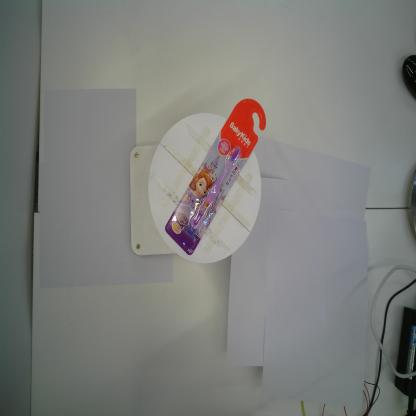Personal Hygiene: (165, 98, 267, 256)
